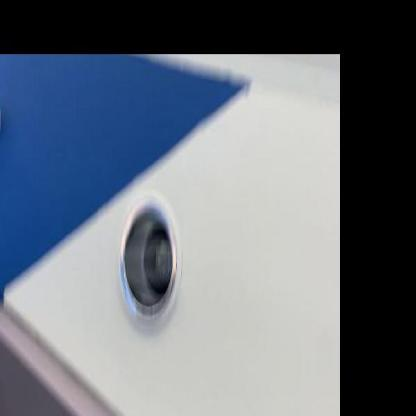light_off: (111, 169, 194, 346)
